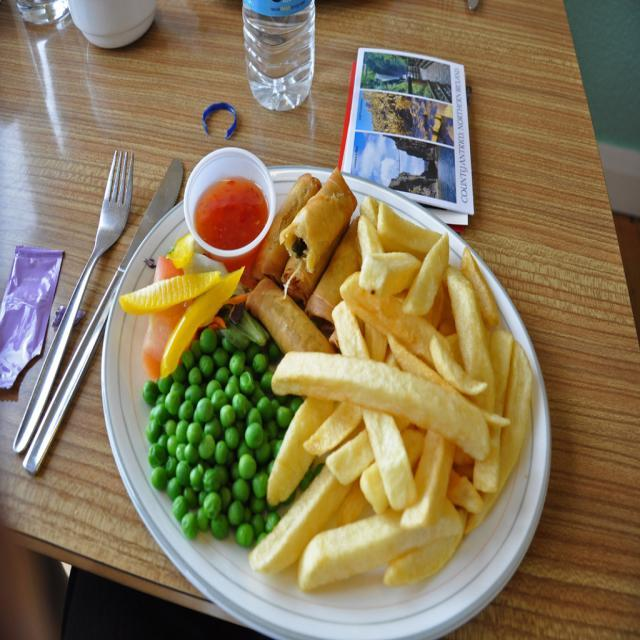French fries: (247, 182, 534, 601)
